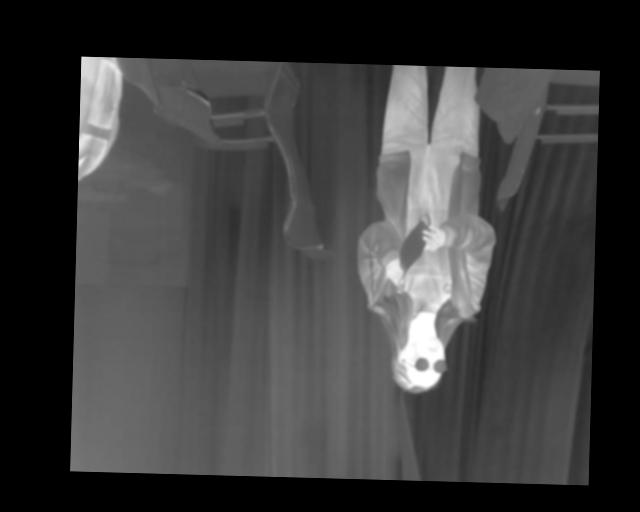face: (392, 334, 448, 394)
